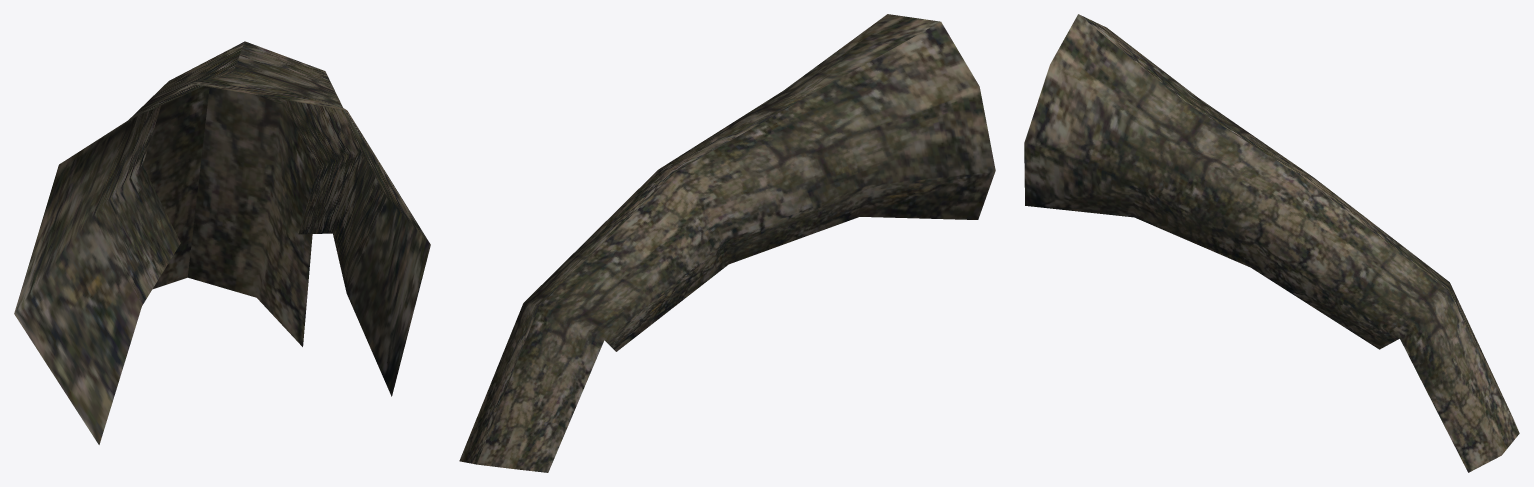
File: EKH_ENTRANCE_PS_EN_LINE343.fbx
3 renders of one model, left to right at view 1: azimuth 30°, elevation 25°; view 2: azimuth 150°, elevation 25°; view 3: azimuth 270°, elevation 25°, orthographic. The views are drawn at different scales.
Parts seen in each view (by area): view 1: EKH_ENTRANCE_PS_EN_LINE343; view 2: EKH_ENTRANCE_PS_EN_LINE343; view 3: EKH_ENTRANCE_PS_EN_LINE343.
Part boxes in pixels (bbox=[...]): EKH_ENTRANCE_PS_EN_LINE343: bbox=[14, 41, 430, 444]; EKH_ENTRANCE_PS_EN_LINE343: bbox=[459, 14, 995, 472]; EKH_ENTRANCE_PS_EN_LINE343: bbox=[1024, 14, 1519, 472].
Size of the model in its own units: 34210 by 34176 by 45663.
1 material, 1 textured.
